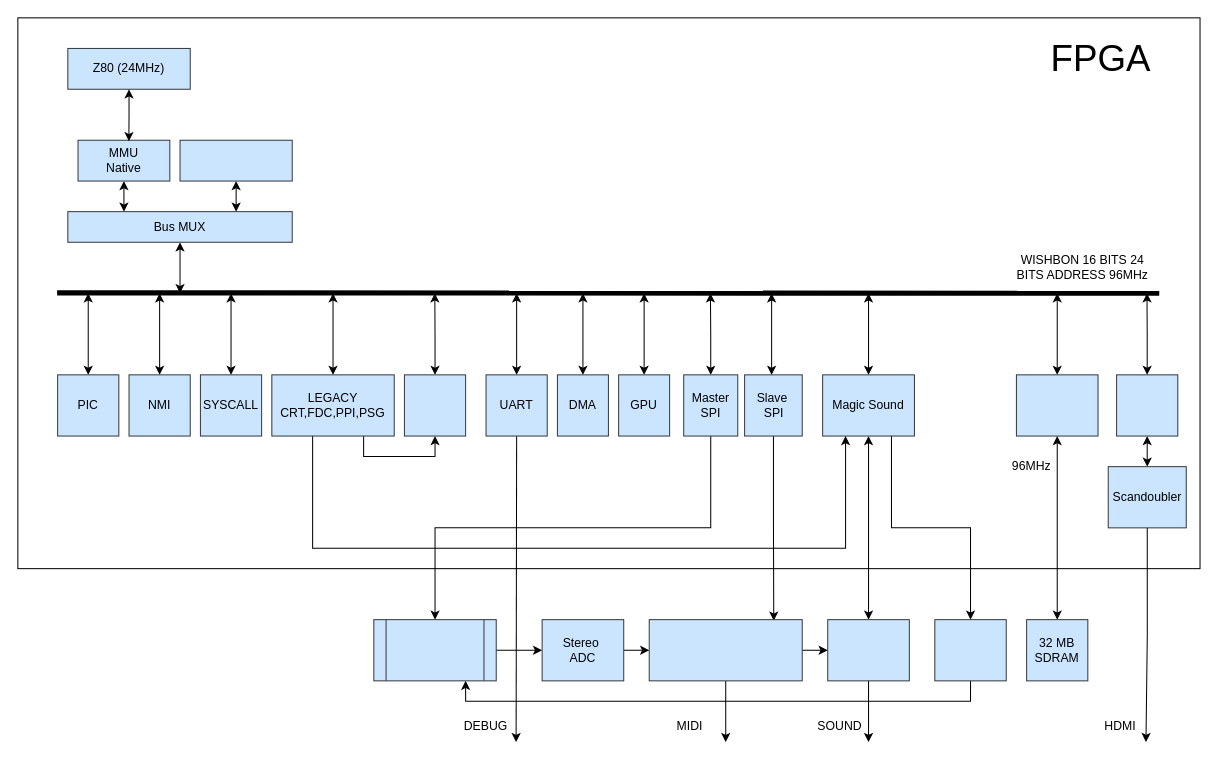
The diagram is 1218 pixels wide and 768 high, and some of its shapes have lost their labels. Each missing label, with the centre of its shape:
2xStereo DAC: point (970, 650)
Expansion BUS: point (434, 650)
MCU PMI, Debugging, Sound FX,MIDI: point (725, 650)
MMU Legacy: point (235, 160)
Pixel: point (1147, 405)
SDRAM Controller: point (1056, 405)
Stereo DAC: point (868, 650)
Video Address: point (434, 405)
